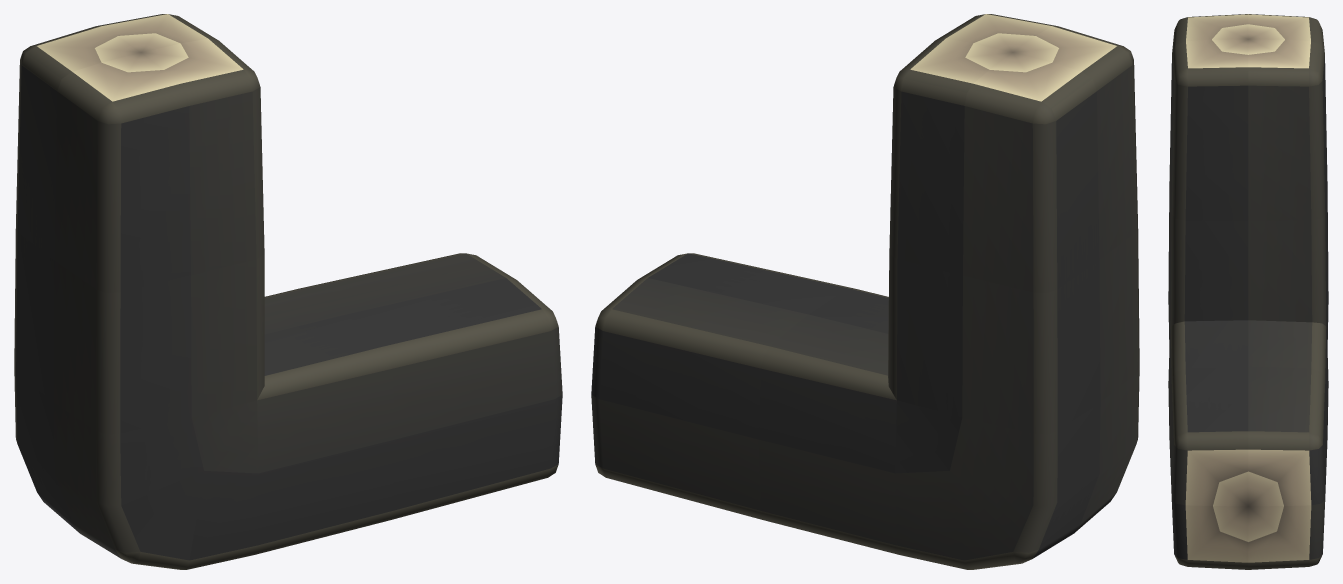
The model's file is ColdWood_BranchSmall_L.fbx.
3 views of the same model, side by side, from view 1: azimuth 30°, elevation 25°; view 2: azimuth 150°, elevation 25°; view 3: azimuth 270°, elevation 25° (orthographic). The views are drawn at different scales.
Visible parts, largest first — view 1: ColdWood_BranchSmall_L_LOD0; view 2: ColdWood_BranchSmall_L_LOD0; view 3: ColdWood_BranchSmall_L_LOD0.
Boxes of the visible parts, x1=… form: ColdWood_BranchSmall_L_LOD0: x1=14, y1=14, x2=562, y2=569; ColdWood_BranchSmall_L_LOD0: x1=591, y1=14, x2=1139, y2=569; ColdWood_BranchSmall_L_LOD0: x1=1168, y1=14, x2=1328, y2=569.
Size of what is drawn, in the model's own units: 0.7896 by 0.79 by 0.2929.
